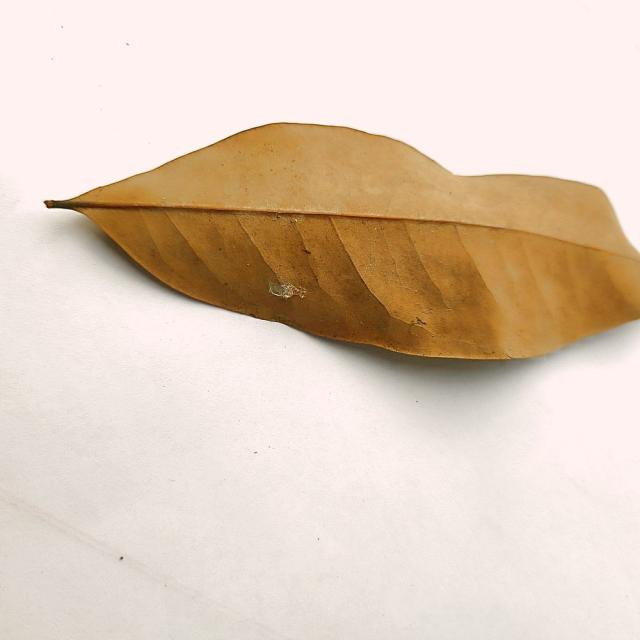Dry_Leaf-Lychee: (45, 123, 639, 364)
